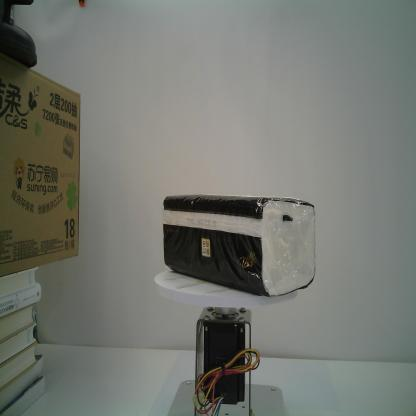Tissue: (161, 192, 318, 299)
